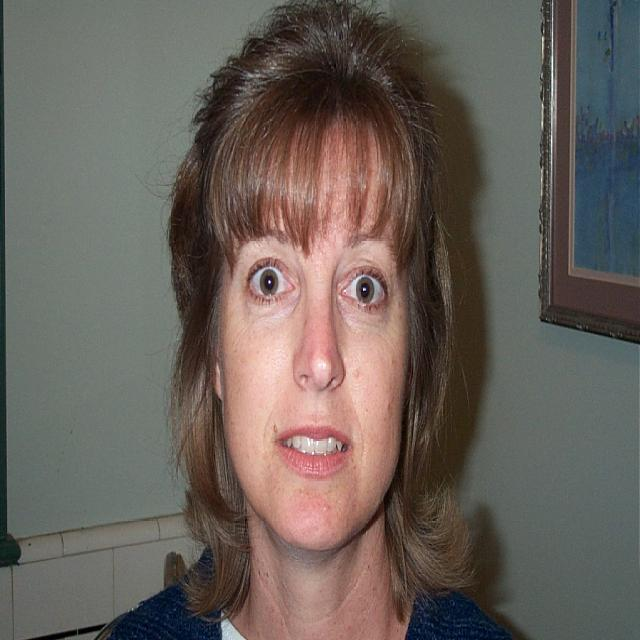sem_oculos: (193, 205, 440, 333)
